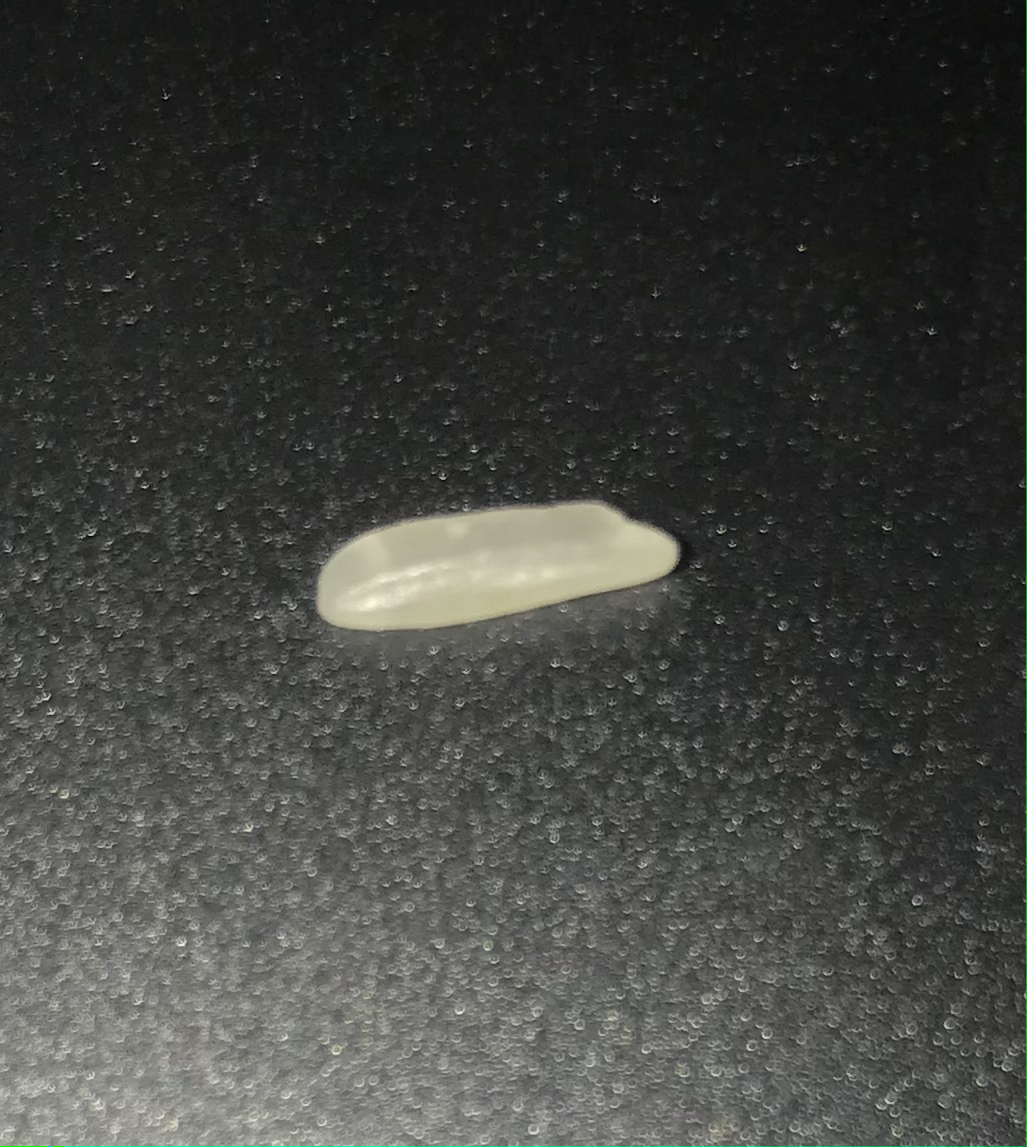Gao Thom My: (284, 458, 724, 637)
